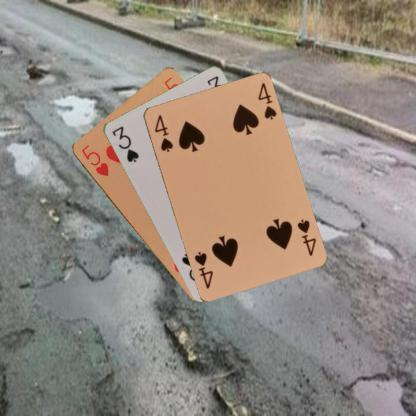3s: (109, 123, 140, 164)
4s: (151, 112, 174, 154), (294, 216, 317, 257)
5h: (78, 142, 110, 178)
